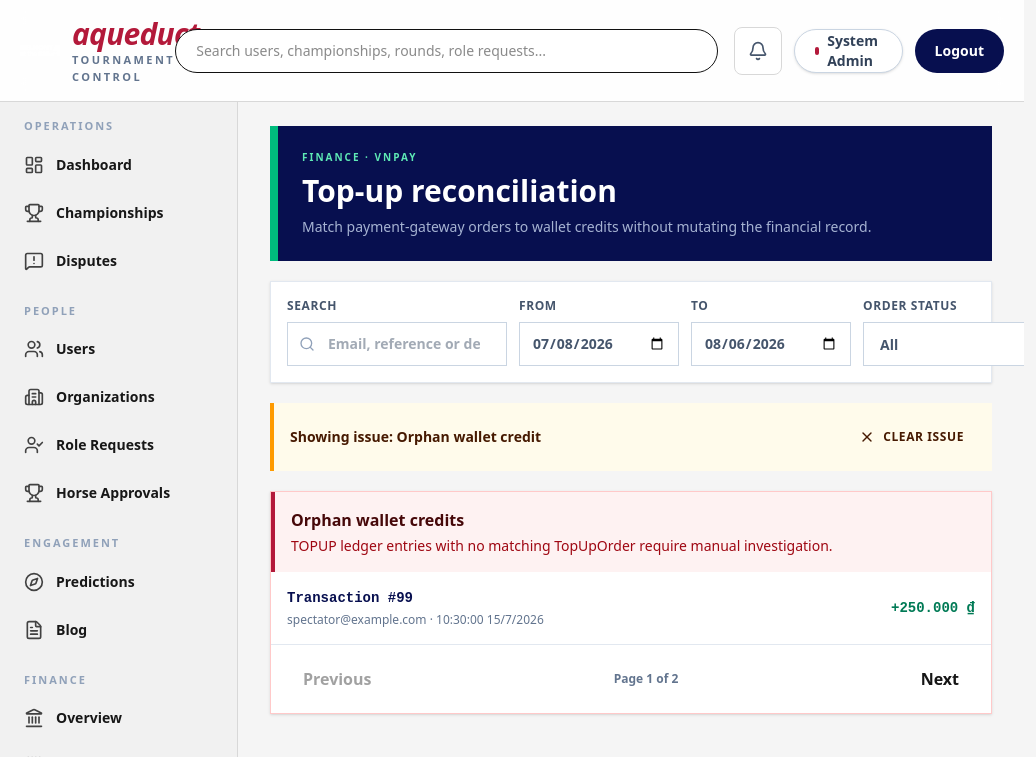
Test case: admin finance reconciliation pages › paginates through every orphan wallet credit
Click the button "Next".
click(940, 679)  # box [905,657,975,701]
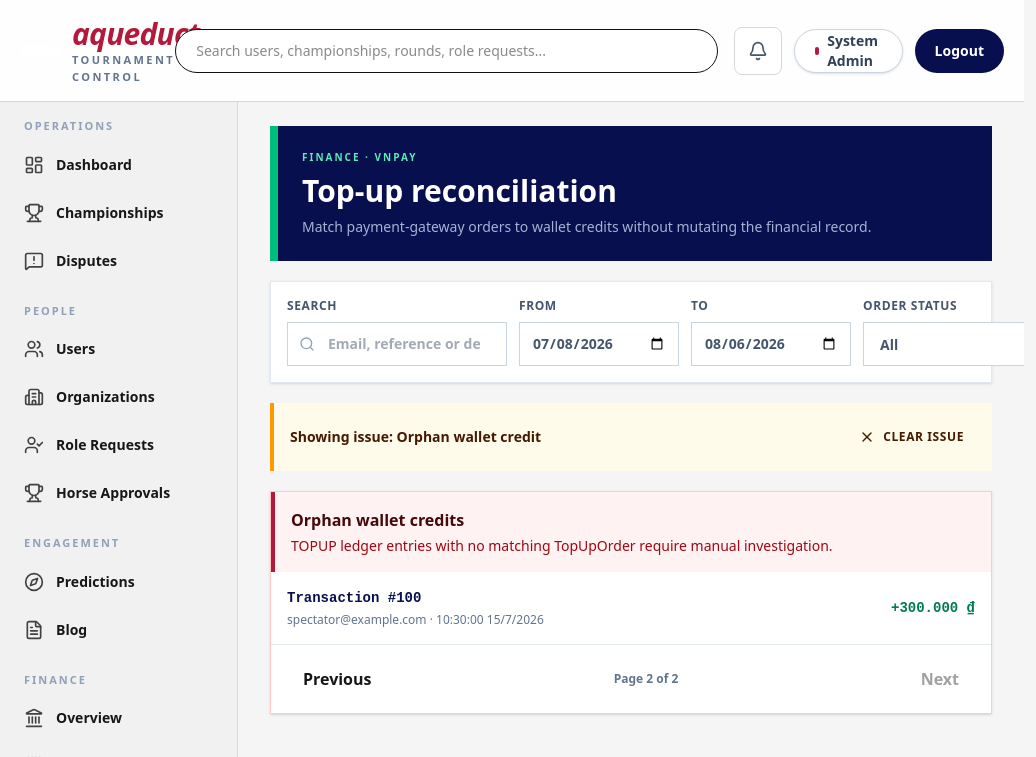
Check: the text "Transaction #100" is shown, box [287,590,421,606]
